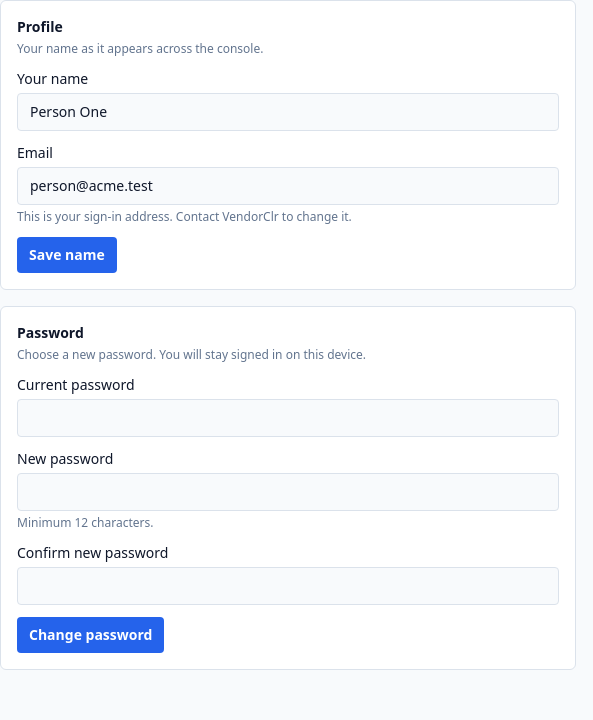
AccountSettings › rejects a new password shorter than the minimum without calling Supabase
This screenshot has width=593, height=720.
Type "oldpassword123" into the password field labelled "Current password".
click(288, 418); type("oldpassword123")  # box [17,399,559,437]
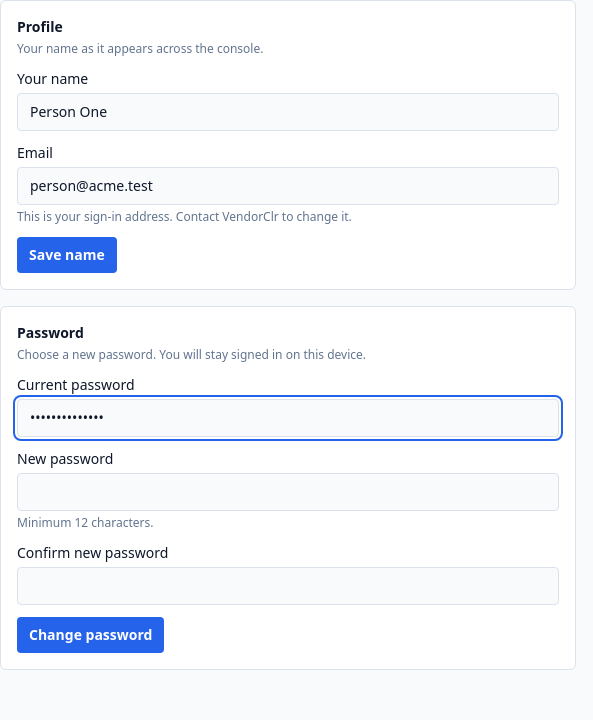
Type "short" into the password field labelled "New password".
click(288, 492); type("short")  # box [17,473,559,511]
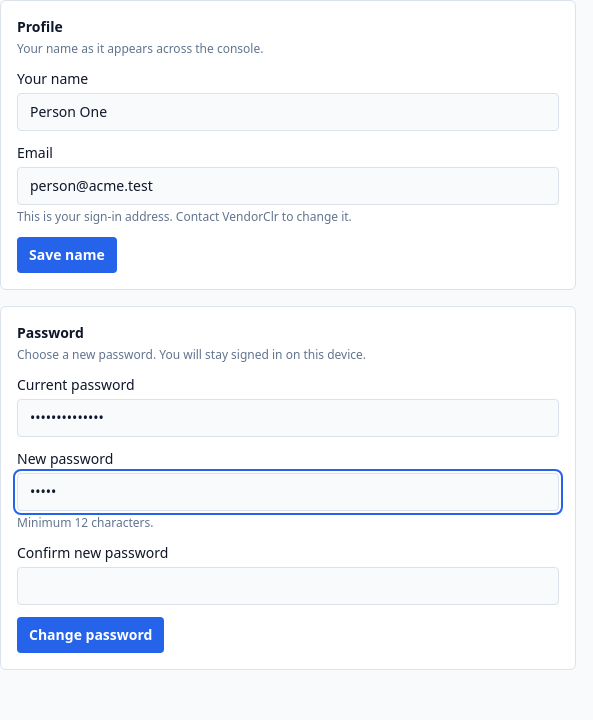
Type "short" into the password field labelled "Confirm new password".
click(288, 586); type("short")  # box [17,567,559,605]
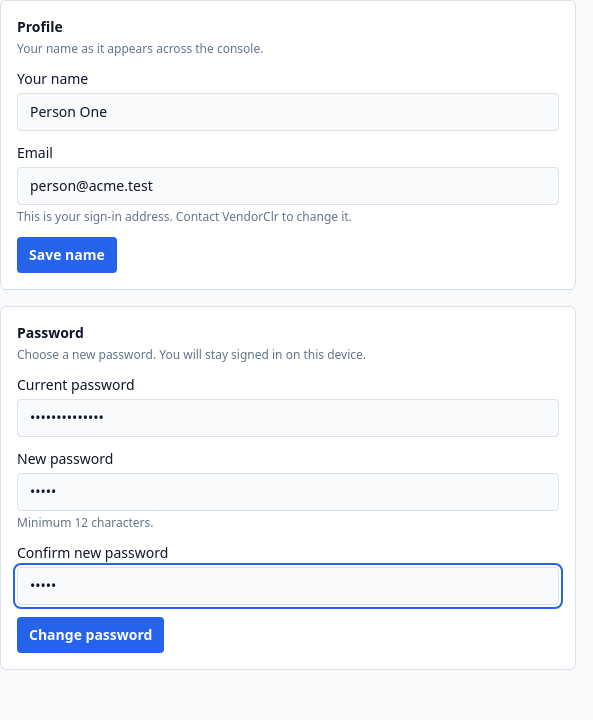
Click the button "Change password".
click(91, 635)  # box [17,617,164,653]
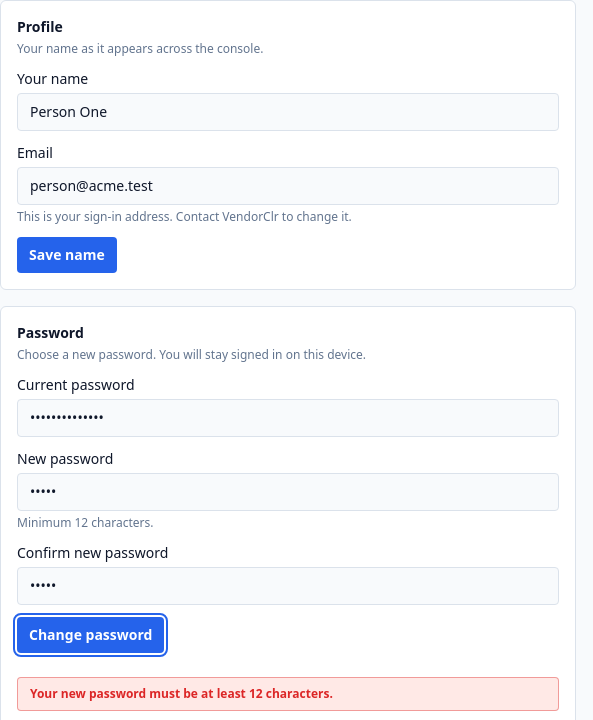
expect the text "Your new password must be at least 12 characters." is shown: met, box [17,677,559,711]
